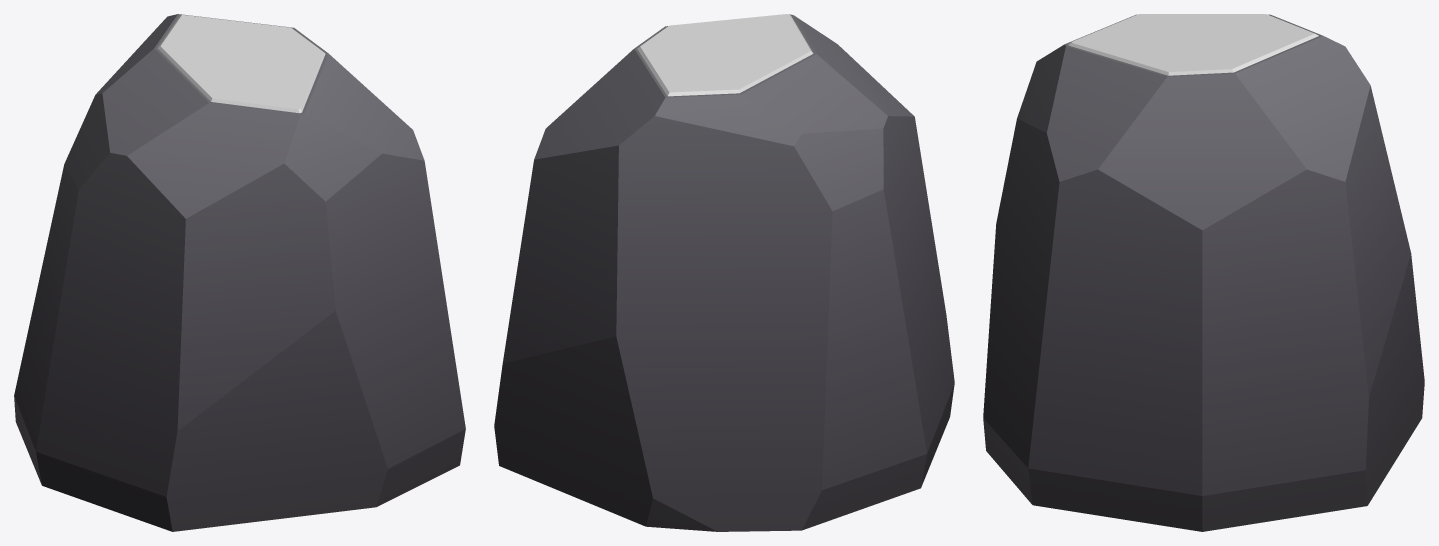
File: Rock_19.glb
The picture shows the model from 3 angles, left to right: view 1: azimuth 30°, elevation 25°; view 2: azimuth 150°, elevation 25°; view 3: azimuth 270°, elevation 25°; orthographic projection. The views are drawn at different scales.
Parts seen in each view (by area): view 1: Rock_19_LOD0; view 2: Rock_19_LOD0; view 3: Rock_19_LOD0.
Boxes of the visible parts, left/top/right/bottom form: Rock_19_LOD0: left=14, top=14, right=465, bottom=531; Rock_19_LOD0: left=494, top=14, right=954, bottom=531; Rock_19_LOD0: left=983, top=14, right=1424, bottom=531.
Size of what is drawn, in the model's own units: 1.41 by 1.3 by 1.3.
1 material, 1 textured.
